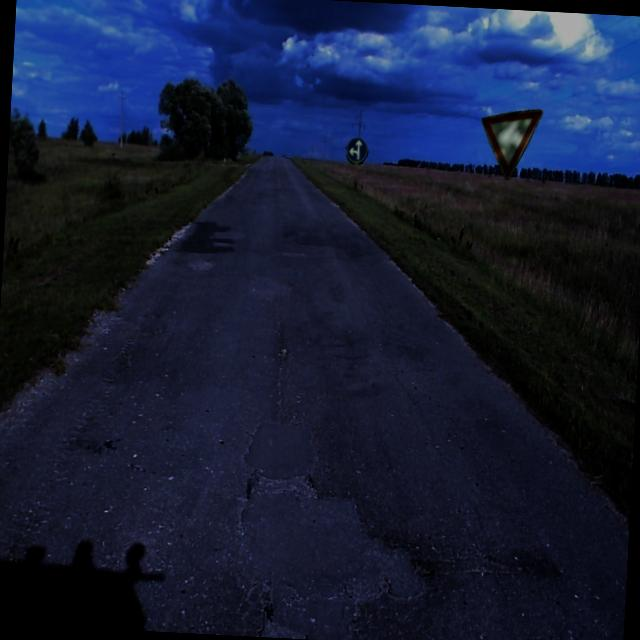road: (0, 153, 629, 640)
